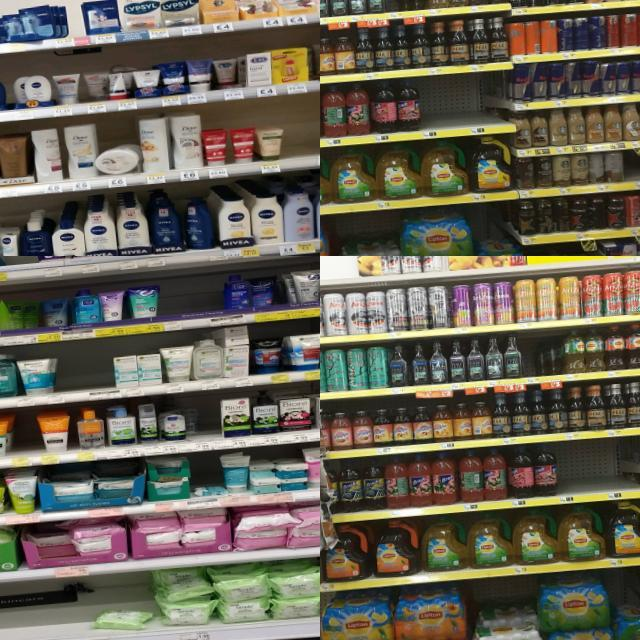empty_space: (0, 601, 93, 640), (162, 278, 225, 331), (58, 347, 115, 402), (458, 72, 502, 136), (595, 436, 639, 500), (417, 75, 459, 138), (555, 441, 597, 503), (281, 107, 320, 171), (15, 414, 40, 466), (200, 398, 223, 450), (520, 332, 540, 384), (65, 2, 85, 46), (5, 256, 35, 280), (623, 149, 640, 190), (383, 0, 403, 19)
